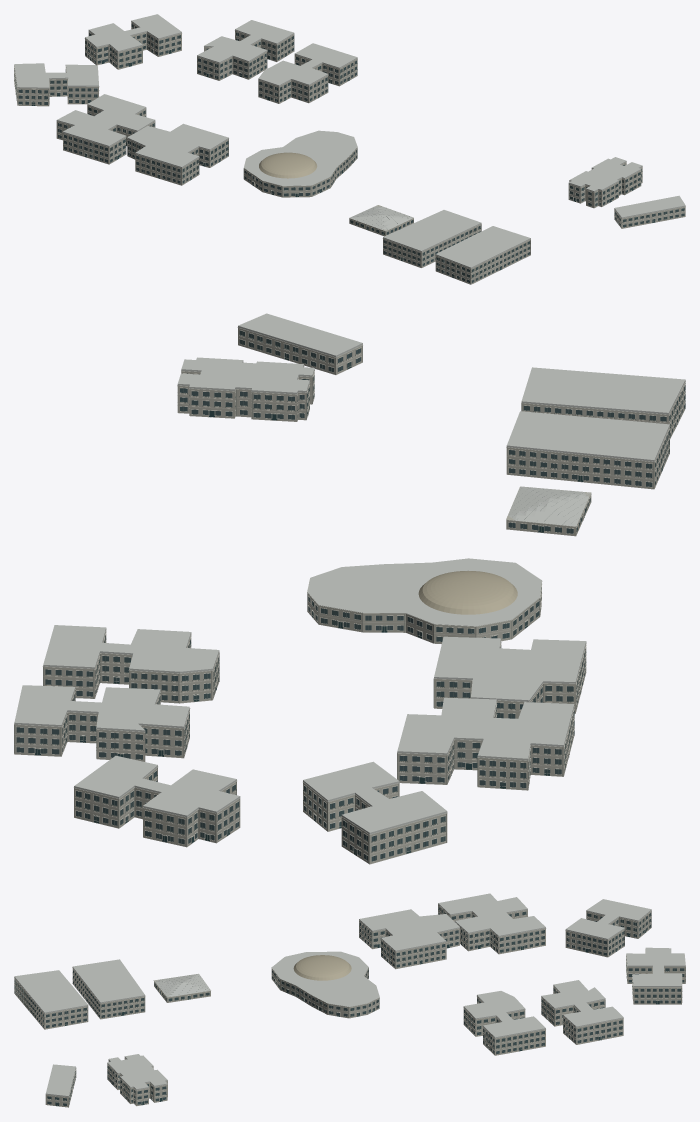
The model's file is UMPSA-Pekan-residential.glb.
The picture shows the model from 3 angles, top to bottom: view 1: azimuth 30°, elevation 25°; view 2: azimuth 150°, elevation 25°; view 3: azimuth 270°, elevation 25°; orthographic projection. The views are drawn at different scales.
Parts seen in each view (by area): view 1: Pusat Aktiviti Pelajar (PAP) UMPSA Pekan - campus exterior, Kolej Kediaman 5 - southwest courtyard block - campus exteri, Kolej Kediaman 5 - west courtyard block - campus exterior, Kolej Kediaman 5 - east courtyard block - campus exterior, Block I KK5 UMPSA Pekan - campus exterior, Block H KK5 UMPSA Pekan - campus exterior, Block B KK5 UMPSA Pekan - campus exterior, Block C KK5 UMPSA Pekan - campus exterior, Kolej Kediaman 5 - northwest courtyard block - campus exteri, Block A KK5 UMPSA Pekan - campus exterior, Kolej Kediaman 5 - southeast residential wing - campus exter, Kolej Kediaman 5 cafeteria - campus exterior; view 2: Pusat Aktiviti Pelajar (PAP) UMPSA Pekan - campus exterior, Kolej Kediaman 5 - west courtyard block - campus exterior, Block I KK5 UMPSA Pekan - campus exterior, Block H KK5 UMPSA Pekan - campus exterior, Kolej Kediaman 5 - east courtyard block - campus exterior, Block C KK5 UMPSA Pekan - campus exterior, Kolej Kediaman 5 - northwest courtyard block - campus exteri, Kolej Kediaman 5 - southwest courtyard block - campus exteri, Block A KK5 UMPSA Pekan - campus exterior, Block B KK5 UMPSA Pekan - campus exterior, Kolej Kediaman 5 - southeast residential wing - campus exter, Kolej Kediaman 5 cafeteria - campus exterior; view 3: Pusat Aktiviti Pelajar (PAP) UMPSA Pekan - campus exterior, Kolej Kediaman 5 - west courtyard block - campus exterior, Kolej Kediaman 5 - southwest courtyard block - campus exteri, Kolej Kediaman 5 - east courtyard block - campus exterior, Block I KK5 UMPSA Pekan - campus exterior, Kolej Kediaman 5 - northwest courtyard block - campus exteri, Block C KK5 UMPSA Pekan - campus exterior, Block B KK5 UMPSA Pekan - campus exterior, Block H KK5 UMPSA Pekan - campus exterior, Block A KK5 UMPSA Pekan - campus exterior, Kolej Kediaman 5 cafeteria - campus exterior, Kolej Kediaman 5 - southeast residential wing - campus exter.
Part boxes in pixels (left/top/right/bottom): Pusat Aktiviti Pelajar (PAP) UMPSA Pekan - campus exterior: left=243, top=130, right=357, bottom=197; Kolej Kediaman 5 - southwest courtyard block - campus exteri: left=127, top=123, right=228, bottom=185; Kolej Kediaman 5 - west courtyard block - campus exterior: left=56, top=94, right=155, bottom=164; Kolej Kediaman 5 - east courtyard block - campus exterior: left=258, top=43, right=357, bottom=103; Block I KK5 UMPSA Pekan - campus exterior: left=197, top=20, right=294, bottom=80; Block H KK5 UMPSA Pekan - campus exterior: left=84, top=14, right=181, bottom=69; Block B KK5 UMPSA Pekan - campus exterior: left=435, top=226, right=530, bottom=284; Block C KK5 UMPSA Pekan - campus exterior: left=382, top=210, right=481, bottom=267; Kolej Kediaman 5 - northwest courtyard block - campus exteri: left=14, top=63, right=99, bottom=106; Block A KK5 UMPSA Pekan - campus exterior: left=568, top=157, right=642, bottom=208; Kolej Kediaman 5 - southeast residential wing - campus exter: left=614, top=195, right=685, bottom=228; Kolej Kediaman 5 cafeteria - campus exterior: left=349, top=205, right=413, bottom=236; Pusat Aktiviti Pelajar (PAP) UMPSA Pekan - campus exterior: left=307, top=558, right=542, bottom=643; Kolej Kediaman 5 - west courtyard block - campus exterior: left=397, top=697, right=574, bottom=790; Block I KK5 UMPSA Pekan - campus exterior: left=14, top=685, right=190, bottom=761; Block H KK5 UMPSA Pekan - campus exterior: left=74, top=755, right=240, bottom=847; Kolej Kediaman 5 - east courtyard block - campus exterior: left=42, top=625, right=219, bottom=703; Block C KK5 UMPSA Pekan - campus exterior: left=506, top=411, right=670, bottom=489; Kolej Kediaman 5 - northwest courtyard block - campus exteri: left=303, top=761, right=447, bottom=864; Kolej Kediaman 5 - southwest courtyard block - campus exteri: left=433, top=636, right=586, bottom=718; Block A KK5 UMPSA Pekan - campus exterior: left=177, top=357, right=314, bottom=421; Block B KK5 UMPSA Pekan - campus exterior: left=521, top=367, right=685, bottom=438; Kolej Kediaman 5 - southeast residential wing - campus exter: left=237, top=313, right=362, bottom=374; Kolej Kediaman 5 cafeteria - campus exterior: left=506, top=486, right=591, bottom=536; Pusat Aktiviti Pelajar (PAP) UMPSA Pekan - campus exterior: left=271, top=951, right=379, bottom=1018; Kolej Kediaman 5 - west courtyard block - campus exterior: left=438, top=893, right=546, bottom=954; Kolej Kediaman 5 - southwest courtyard block - campus exteri: left=359, top=909, right=459, bottom=969; Kolej Kediaman 5 - east courtyard block - campus exterior: left=463, top=991, right=545, bottom=1055; Block I KK5 UMPSA Pekan - campus exterior: left=541, top=980, right=623, bottom=1044; Kolej Kediaman 5 - northwest courtyard block - campus exteri: left=565, top=899, right=651, bottom=957; Block C KK5 UMPSA Pekan - campus exterior: left=72, top=959, right=145, bottom=1019; Block B KK5 UMPSA Pekan - campus exterior: left=14, top=970, right=88, bottom=1029; Block H KK5 UMPSA Pekan - campus exterior: left=626, top=947, right=685, bottom=1004; Block A KK5 UMPSA Pekan - campus exterior: left=107, top=1054, right=167, bottom=1106; Kolej Kediaman 5 cafeteria - campus exterior: left=153, top=973, right=210, bottom=1002; Kolej Kediaman 5 - southeast residential wing - campus exter: left=45, top=1064, right=76, bottom=1107.
Size of the model in its own units: 295 by 13 by 427.
